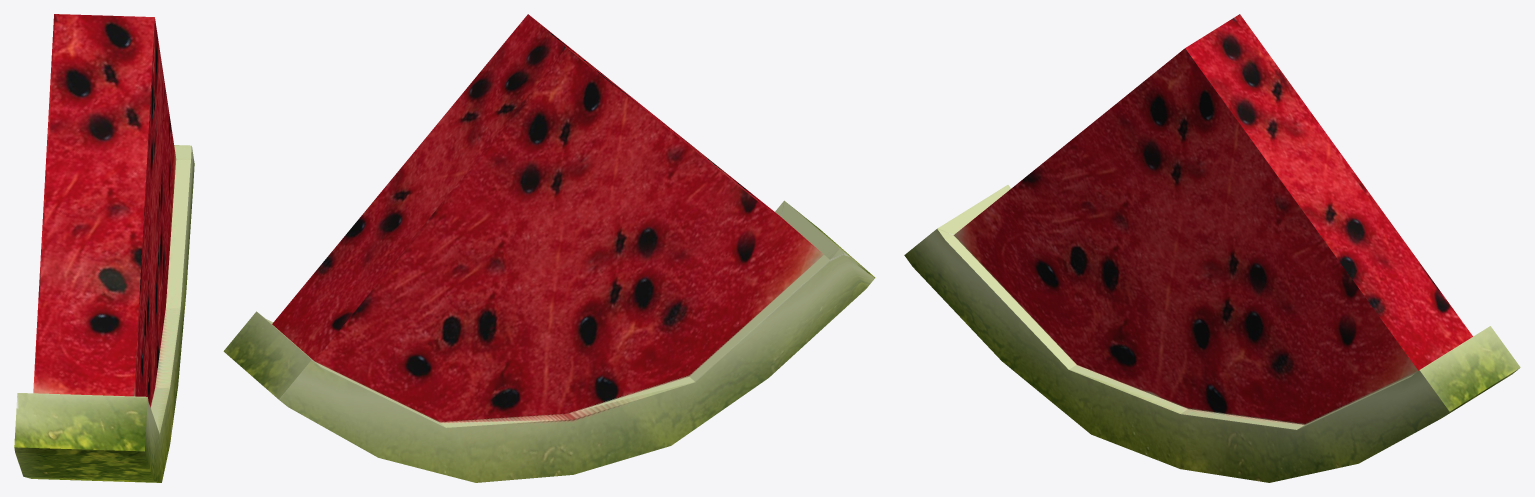
File: sandia.glb
The picture shows the model from 3 angles, left to right: view 1: azimuth 30°, elevation 25°; view 2: azimuth 150°, elevation 25°; view 3: azimuth 270°, elevation 25°; orthographic projection. The views are drawn at different scales.
Visible parts, largest first — view 1: Box001_Merged_Material; view 2: Box001_Merged_Material; view 3: Box001_Merged_Material.
Boxes of the visible parts, bbox=[...] form: Box001_Merged_Material: bbox=[14, 14, 194, 482]; Box001_Merged_Material: bbox=[223, 14, 875, 482]; Box001_Merged_Material: bbox=[904, 14, 1520, 482].
Bounding box in the file's own units: 4.01 × 3.87 × 5.21.
1 material, 1 textured.
